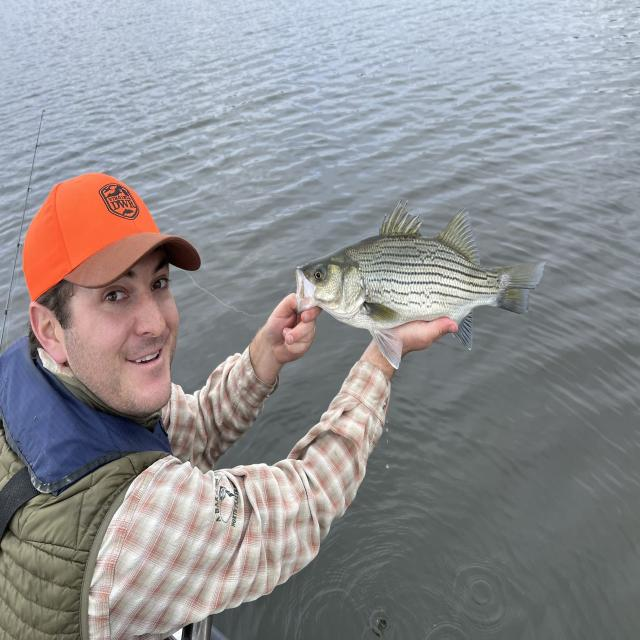Bass - Striped: (295, 201, 545, 368)
